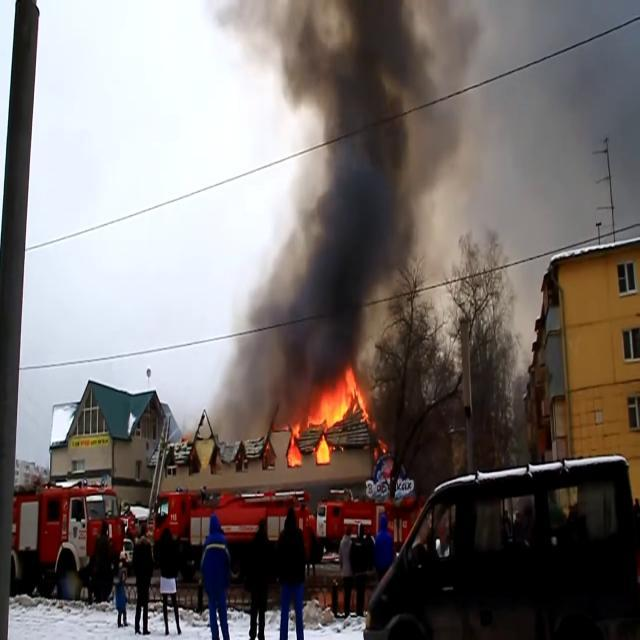Fire: (304, 364, 370, 450)
Smoke: (216, 1, 469, 397), (423, 0, 639, 300)
